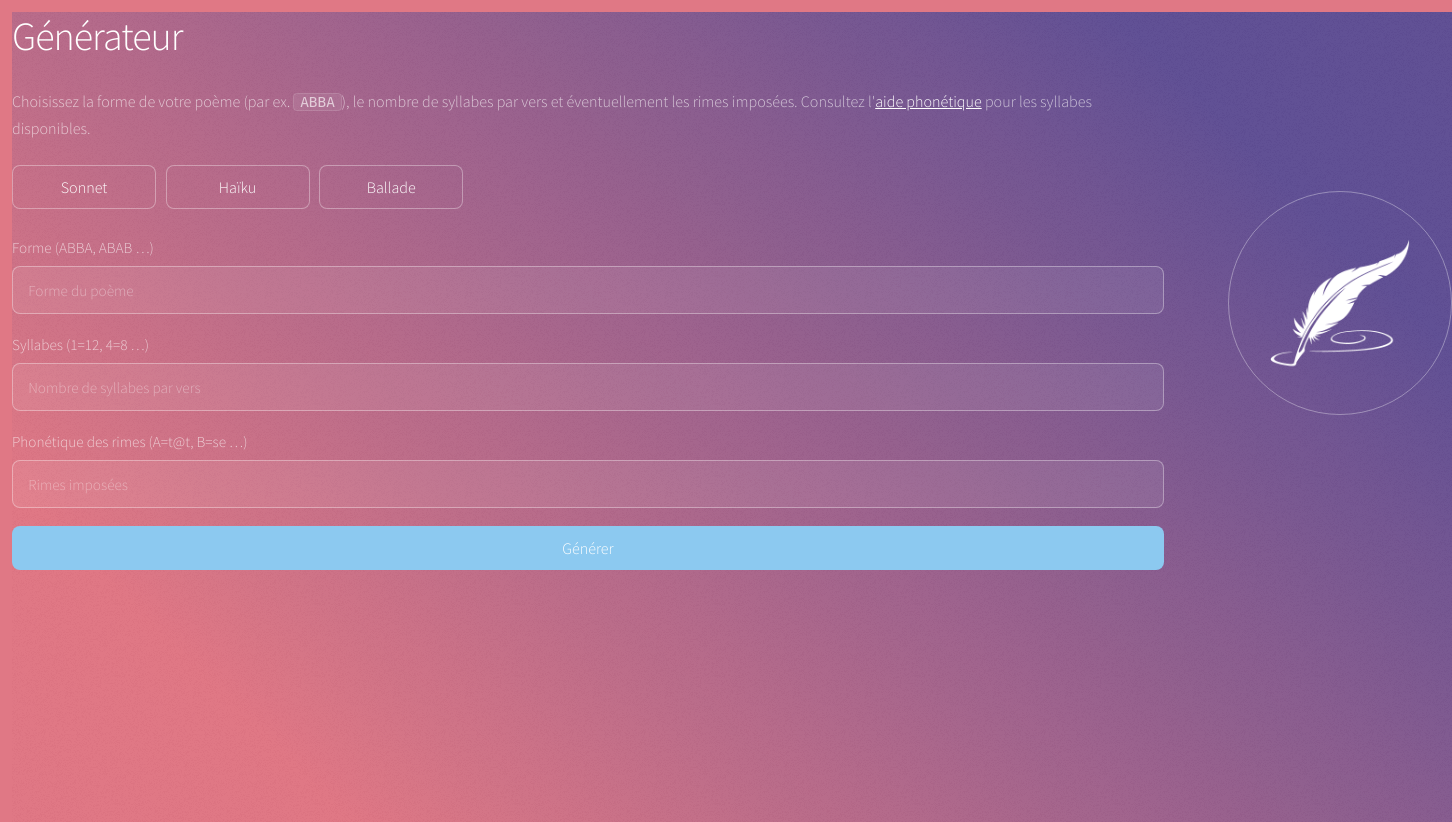
Test: HomePage › appelle l'API et affiche le poème généré
Type "ABBA" into the field labelled "Forme (ABBA, ABAB …)".
click(588, 290); type("ABBA")  # box [12,266,1164,314]
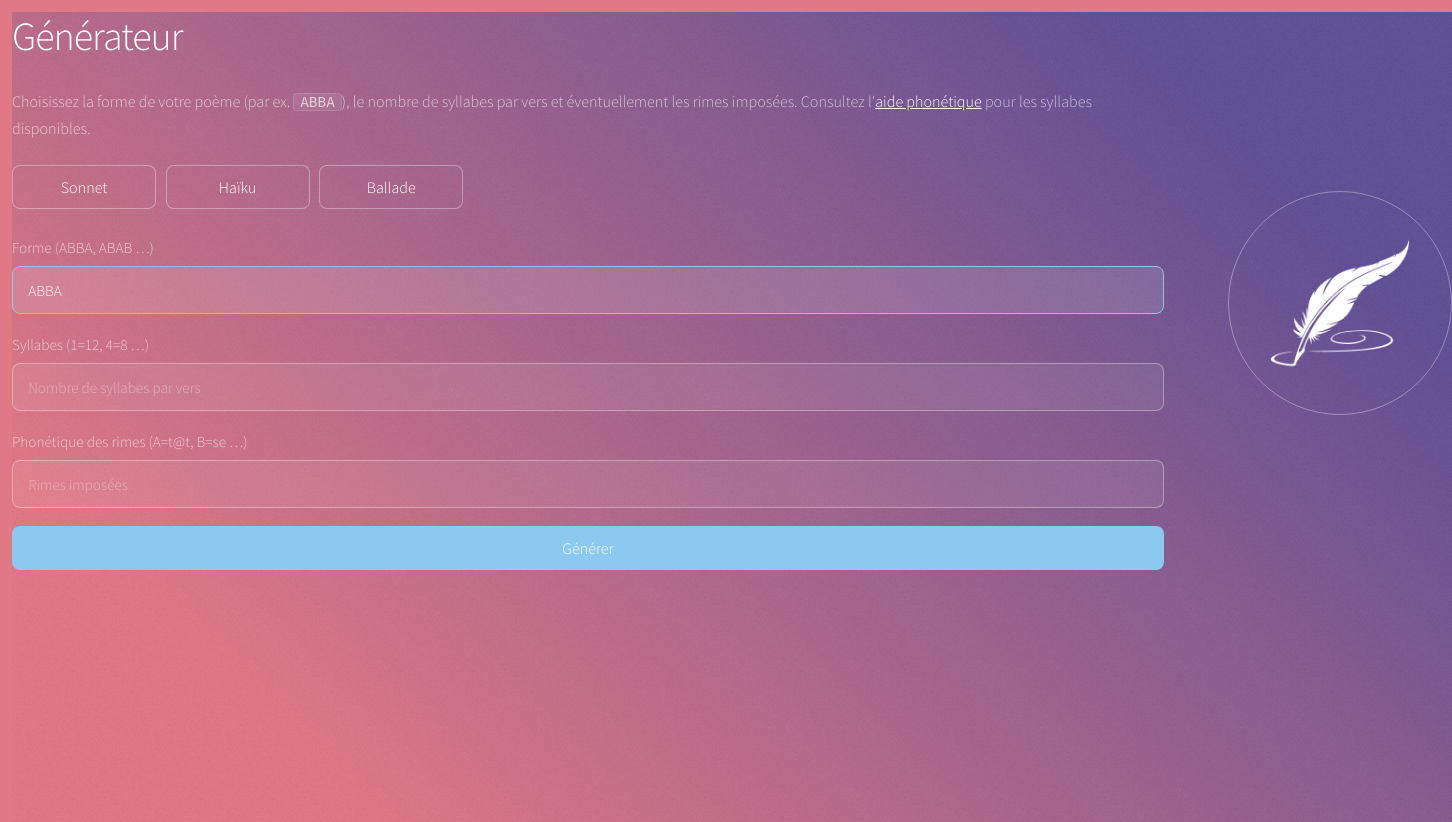
Click the button "Générer".
click(588, 548)  # box [12,526,1164,570]
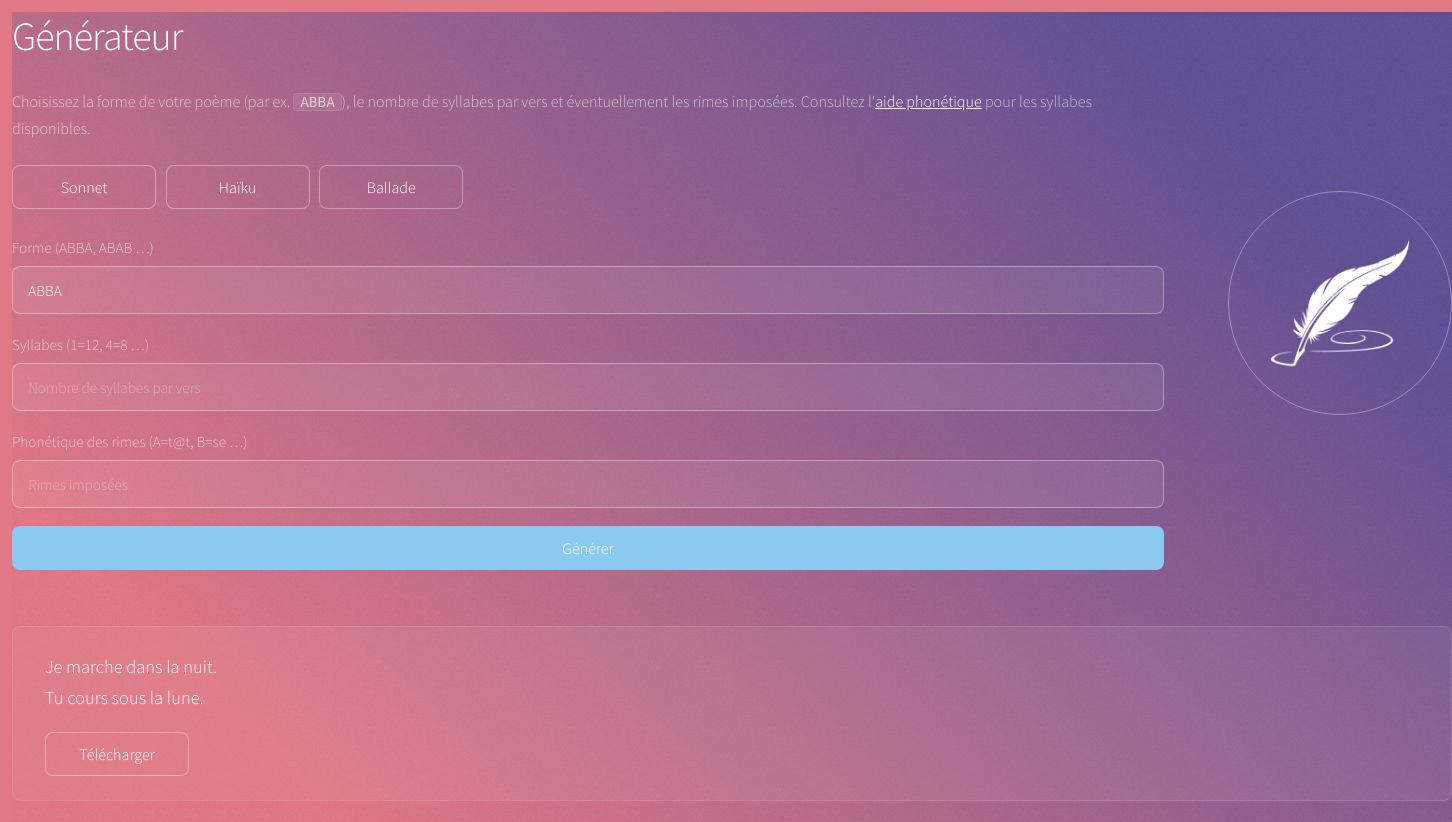
Now the text "Je marche dans la nuit." is shown, box [45,655,217,678]
